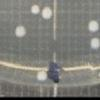white: (34, 67, 49, 84), (13, 24, 28, 40), (85, 17, 100, 33), (39, 6, 54, 21), (89, 35, 100, 52), (30, 3, 41, 17)
